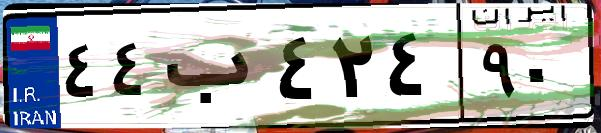0: (525, 38, 570, 115)
2: (330, 28, 385, 110)
4: (270, 28, 330, 110), (385, 28, 445, 110), (57, 26, 110, 100), (110, 28, 158, 98)
9: (475, 38, 525, 113)
ب: (158, 20, 270, 120)
